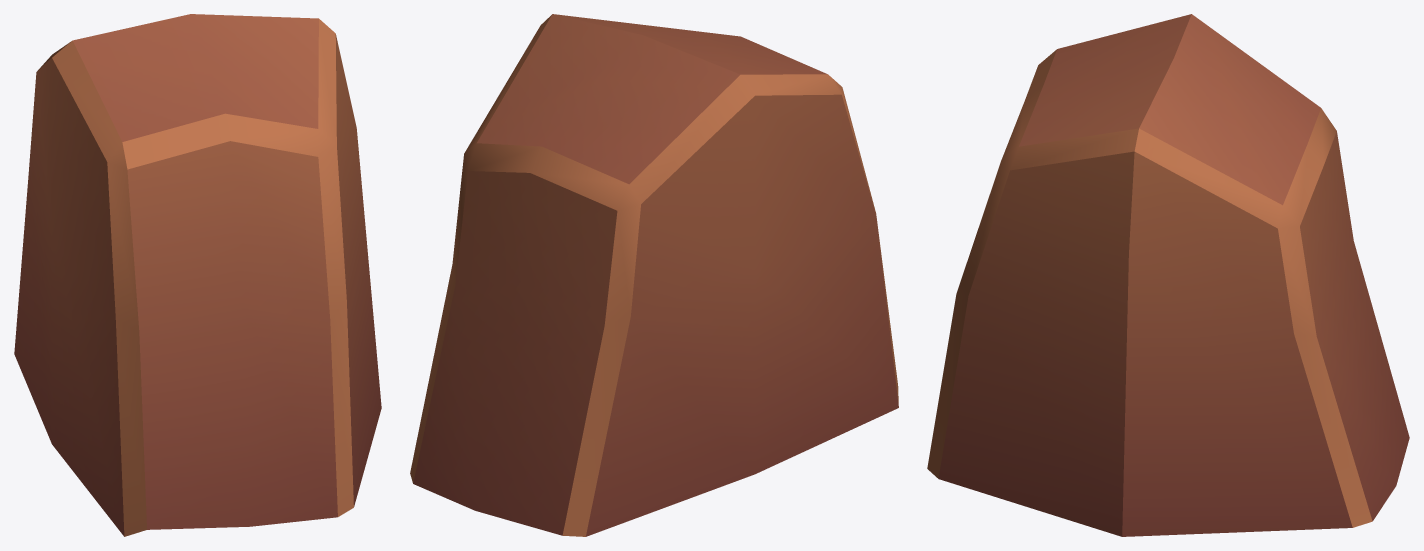
File: Rock-2-7.fbx
3 renders of one model, left to right at view 1: azimuth 30°, elevation 25°; view 2: azimuth 150°, elevation 25°; view 3: azimuth 270°, elevation 25°, orthographic. The views are drawn at different scales.
Visible parts, largest first — view 1: Rock-2-7; view 2: Rock-2-7; view 3: Rock-2-7.
Boxes of the visible parts, x1,y1,x2,y2 form: Rock-2-7: (14,14,381,536); Rock-2-7: (410,14,898,536); Rock-2-7: (927,14,1409,536).
Size of the model in its own units: 91.42 by 110 by 121.
